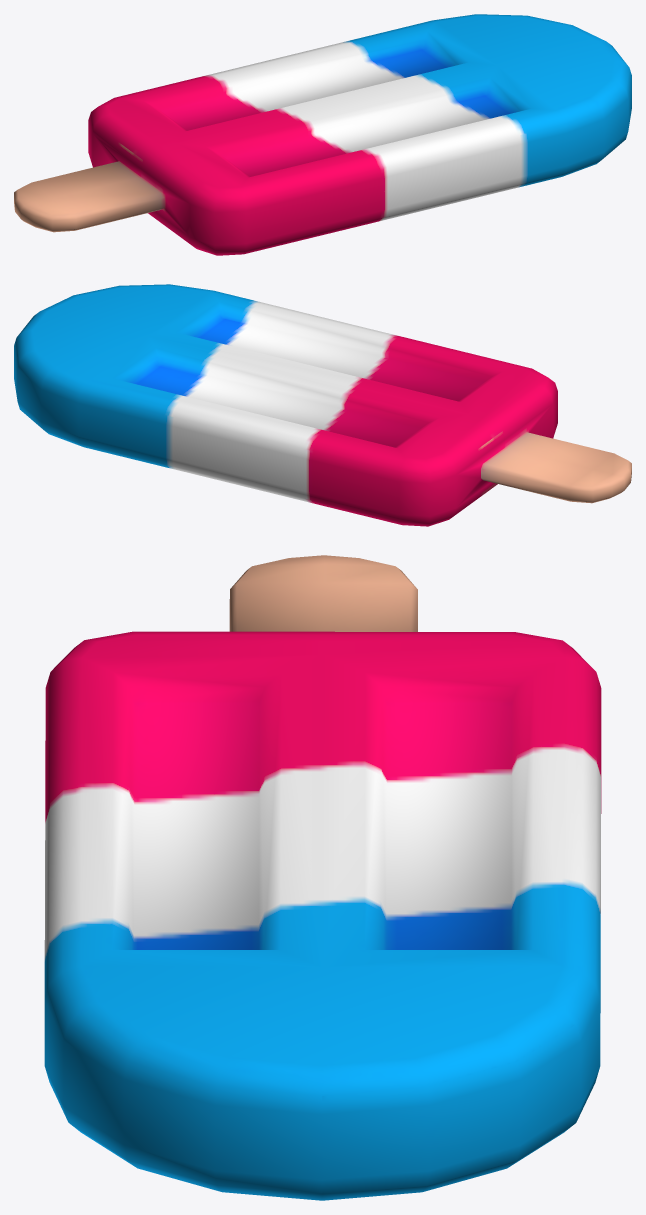
Rendered from Phao14.fbx.
3 renders of one model, top to bottom at view 1: azimuth 30°, elevation 25°; view 2: azimuth 150°, elevation 25°; view 3: azimuth 270°, elevation 25°, orthographic. The views are drawn at different scales.
Visible parts, largest first — view 1: Floatie_Popcicle_1_M_FloatiesPack03_B_0.001; view 2: Floatie_Popcicle_1_M_FloatiesPack03_B_0.001; view 3: Floatie_Popcicle_1_M_FloatiesPack03_B_0.001.
Boxes of the visible parts, x1,y1,x2,y2 form: Floatie_Popcicle_1_M_FloatiesPack03_B_0.001: (14, 14, 631, 255); Floatie_Popcicle_1_M_FloatiesPack03_B_0.001: (14, 284, 631, 526); Floatie_Popcicle_1_M_FloatiesPack03_B_0.001: (44, 555, 601, 1200).
Size of the model in its own units: 1.95 by 0.2065 by 0.7911.
